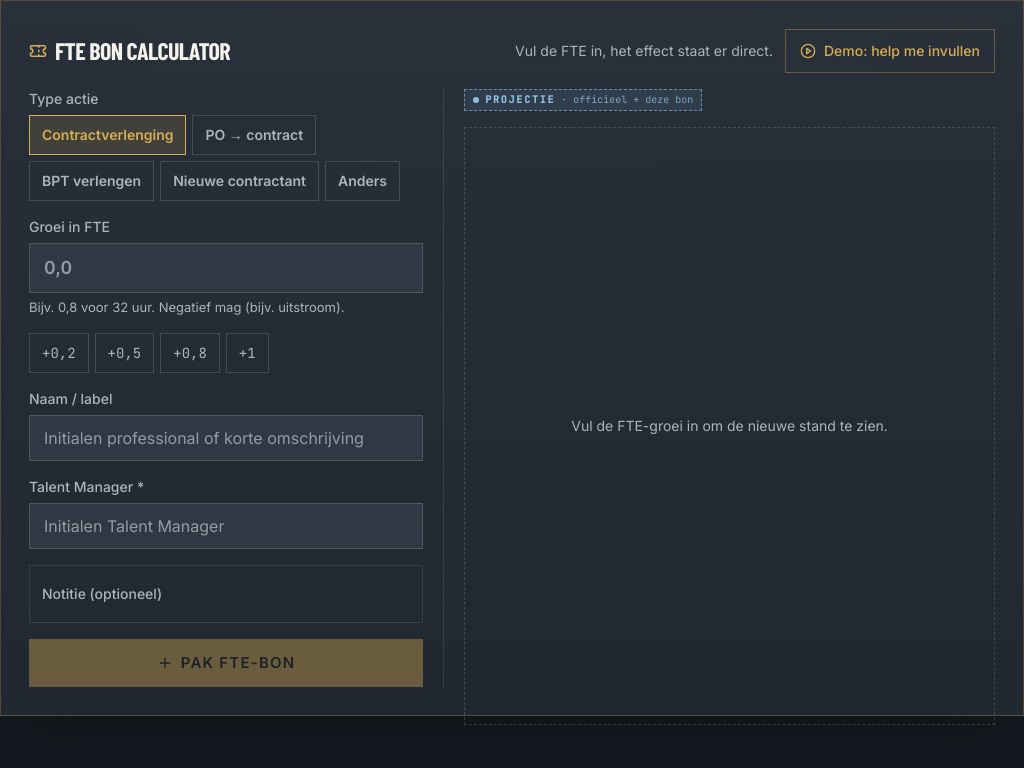
Test case: FTE Bon demo › Stop ends the demo and clears the example
Click the button "Demo: help me invullen": (890, 51) [785,29,995,73]
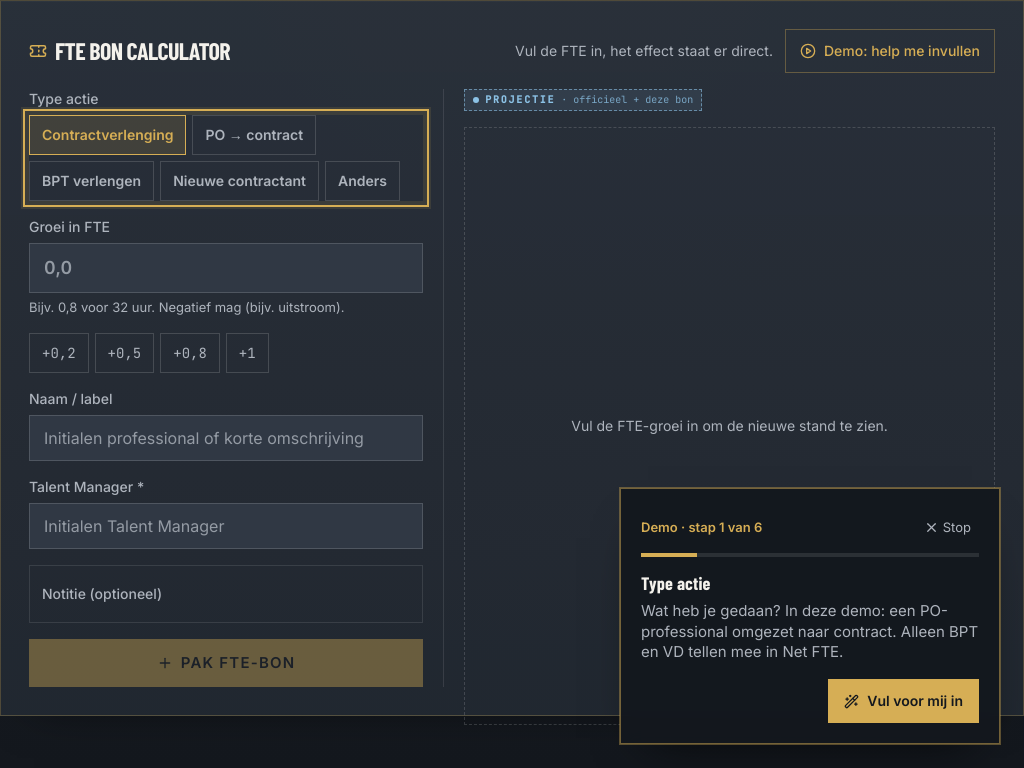
Click the button "Vul voor mij in": (904, 701) [828,679,979,723]
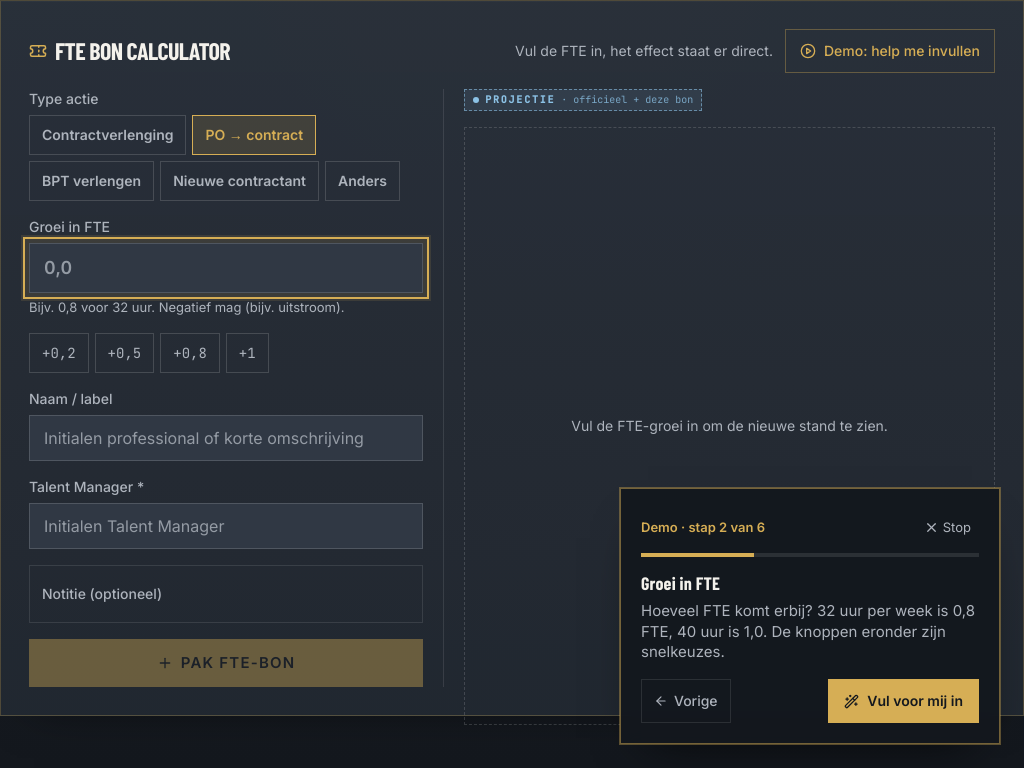
Click the button "Vul voor mij in": (904, 701) [828,679,979,723]
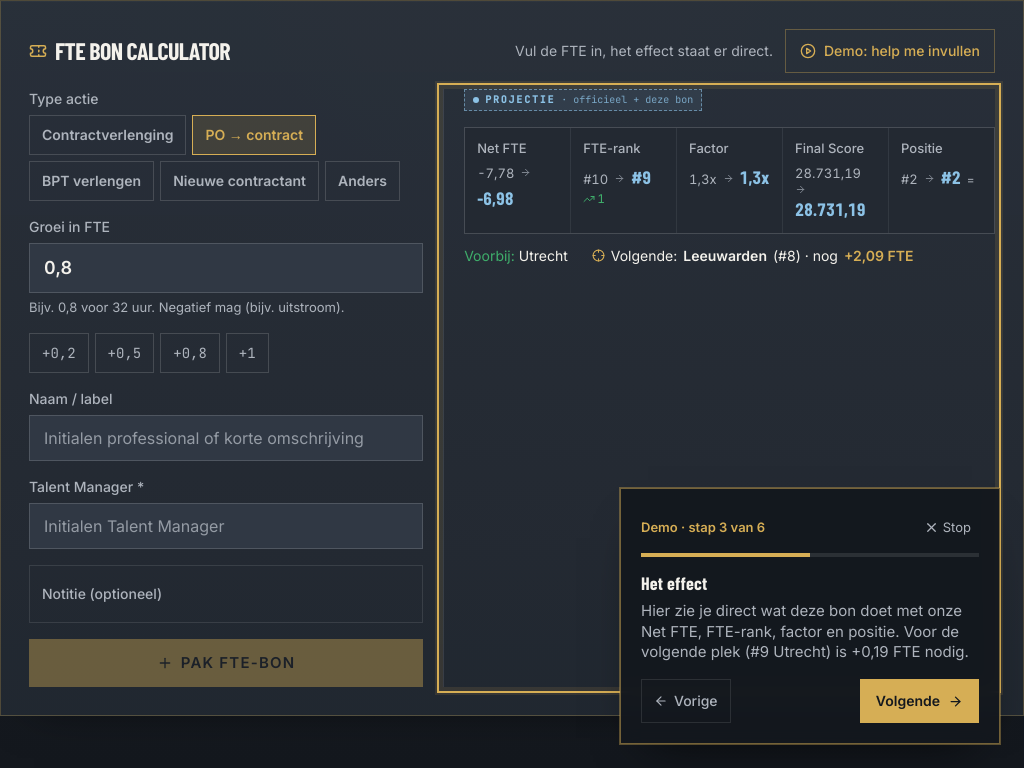
Click the button with aria-label "stop demo": (947, 527) [916,509,979,545]
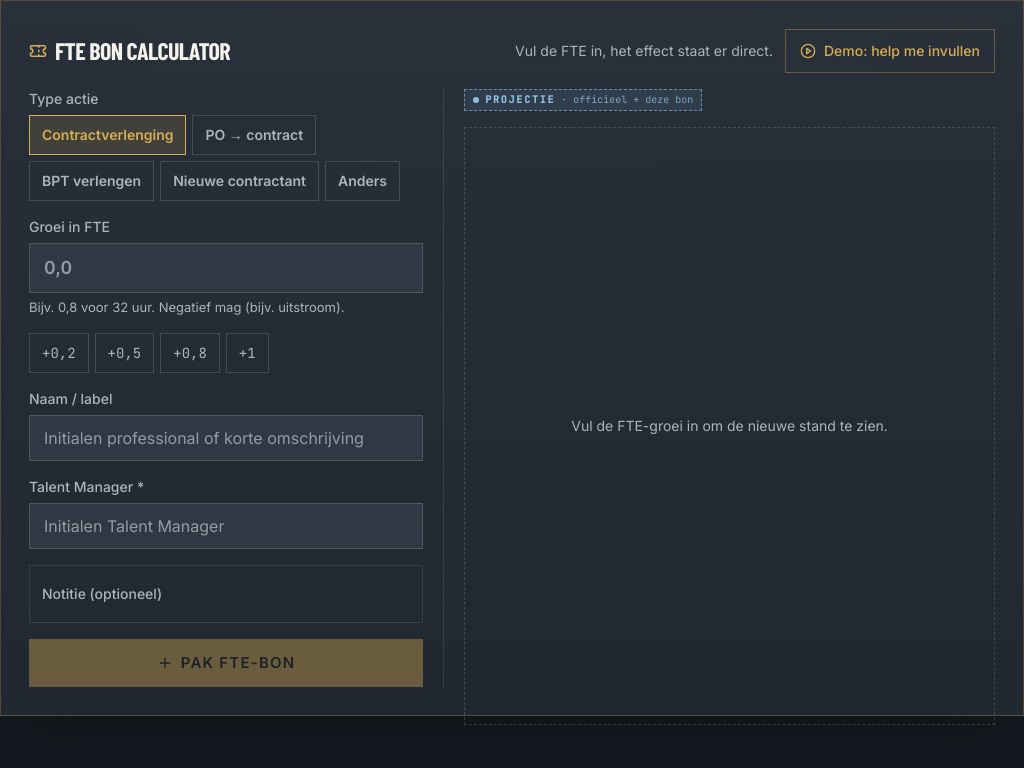
Result: the dialog with test id "demo-coach" is gone
Result: the field labelled "Groei in FTE" is empty at [29,243,423,293]
